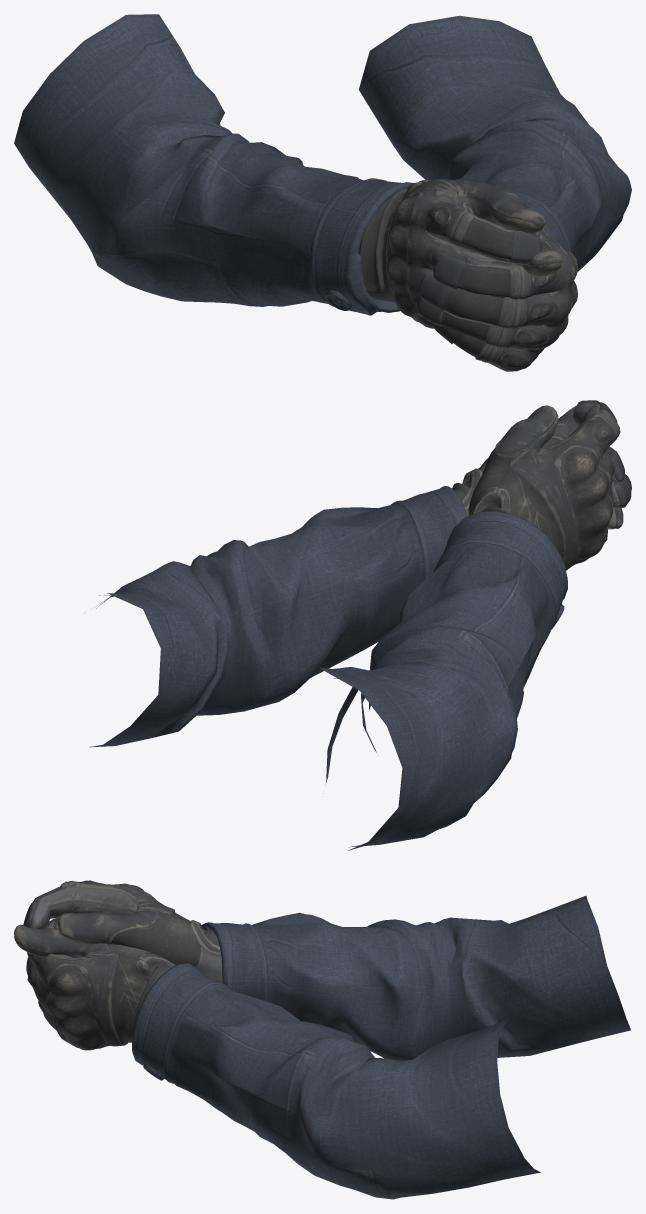
Rendered from arms.glb.
3 renders of one model, top to bottom at view 1: azimuth 30°, elevation 25°; view 2: azimuth 150°, elevation 25°; view 3: azimuth 270°, elevation 25°, orthographic. The views are drawn at different scales.
Visible parts, largest first — view 1: agents\models\ctm_sas\ctm_sas.vmdl_c.firstperson_sleeves, agents\models\ctm_sas\ctm_sas.vmdl_c.firstperson_default_glo; view 2: agents\models\ctm_sas\ctm_sas.vmdl_c.firstperson_sleeves, agents\models\ctm_sas\ctm_sas.vmdl_c.firstperson_default_glo; view 3: agents\models\ctm_sas\ctm_sas.vmdl_c.firstperson_sleeves, agents\models\ctm_sas\ctm_sas.vmdl_c.firstperson_default_glo.
Boxes of the visible parts, x1,y1,x2,y2 form: agents\models\ctm_sas\ctm_sas.vmdl_c.firstperson_sleeves: (14, 14, 631, 315); agents\models\ctm_sas\ctm_sas.vmdl_c.firstperson_default_glo: (358, 179, 578, 371); agents\models\ctm_sas\ctm_sas.vmdl_c.firstperson_sleeves: (89, 486, 567, 850); agents\models\ctm_sas\ctm_sas.vmdl_c.firstperson_default_glo: (452, 400, 631, 570); agents\models\ctm_sas\ctm_sas.vmdl_c.firstperson_sleeves: (132, 896, 630, 1199); agents\models\ctm_sas\ctm_sas.vmdl_c.firstperson_default_glo: (14, 880, 222, 1050).
Bounding box in the file's own units: 0.4355 × 0.2197 × 0.603.
Materials: 2 (2 with a texture image).
